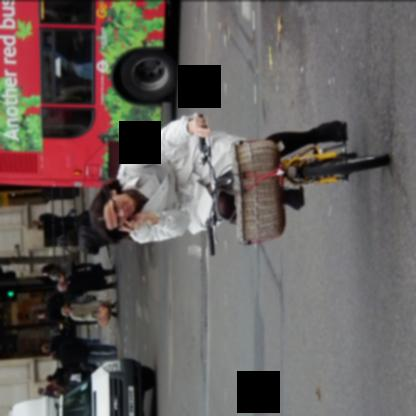handbag: (92, 301, 112, 327)
